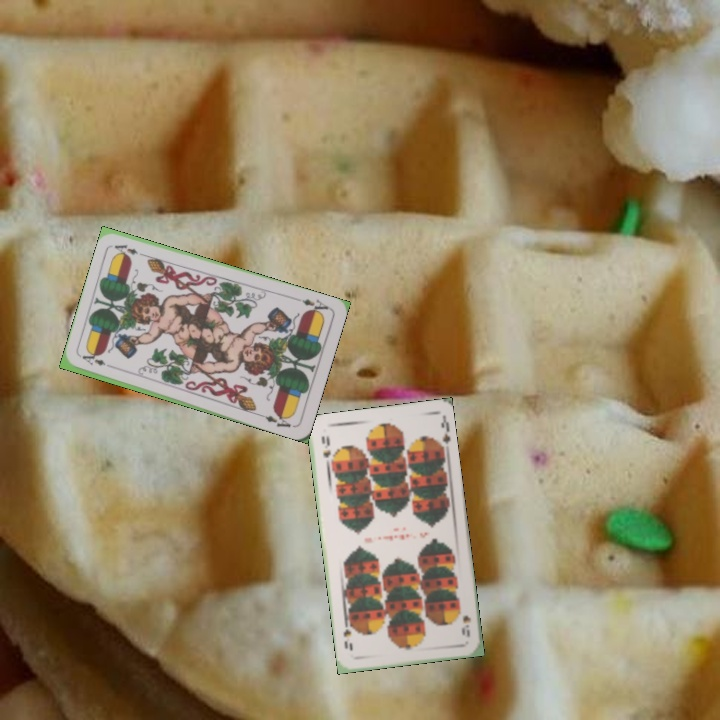EA: (298, 295, 332, 318), (78, 351, 117, 371)
S9: (317, 431, 333, 460), (457, 611, 473, 639)
